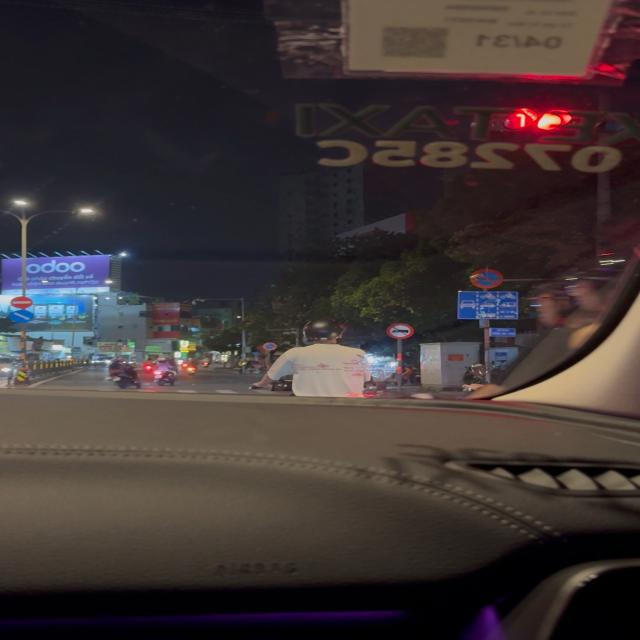Bien bao cam do xe: (262, 341, 278, 351)
Bien bao cam xe so-mi ro-mooc: (383, 322, 416, 340)
